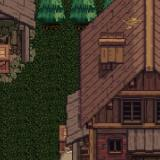Obstacle: (37, 0, 160, 160), (0, 0, 37, 85)
